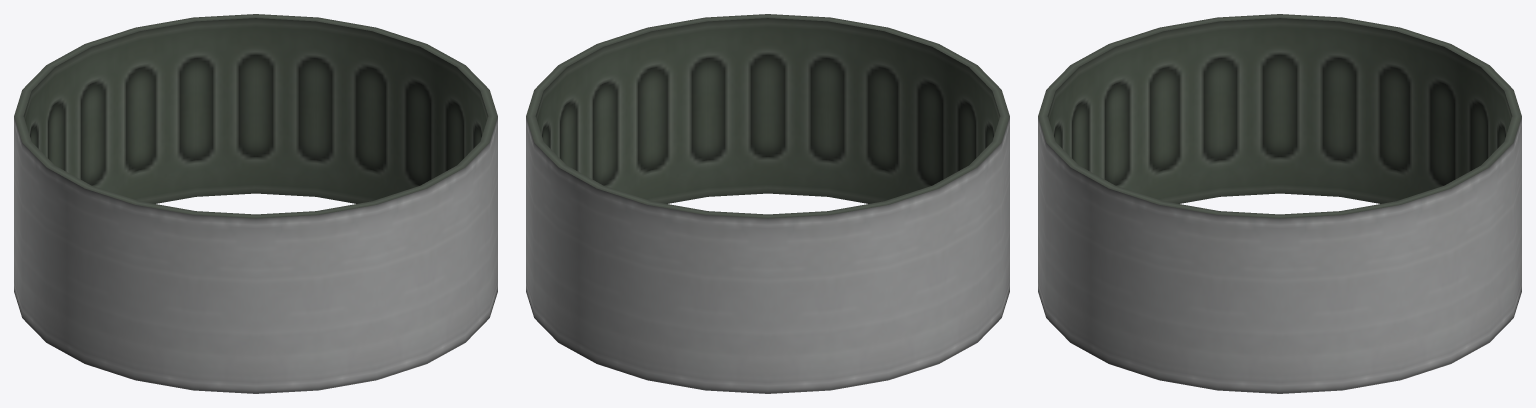
The model's file is castor_aerospike_s0_1_fairing.obj.
The picture shows the model from 3 angles, left to right: view 1: azimuth 30°, elevation 25°; view 2: azimuth 150°, elevation 25°; view 3: azimuth 270°, elevation 25°; orthographic projection.
Parts seen in each view (by area): view 1: castor_aerospike_s0_1_fairing; view 2: castor_aerospike_s0_1_fairing; view 3: castor_aerospike_s0_1_fairing.
Part boxes in pixels (bbox=[...]): castor_aerospike_s0_1_fairing: bbox=[14, 14, 497, 393]; castor_aerospike_s0_1_fairing: bbox=[526, 14, 1009, 393]; castor_aerospike_s0_1_fairing: bbox=[1038, 14, 1521, 393].
Size of the model in its own units: 0.625 by 0.25 by 0.625.
